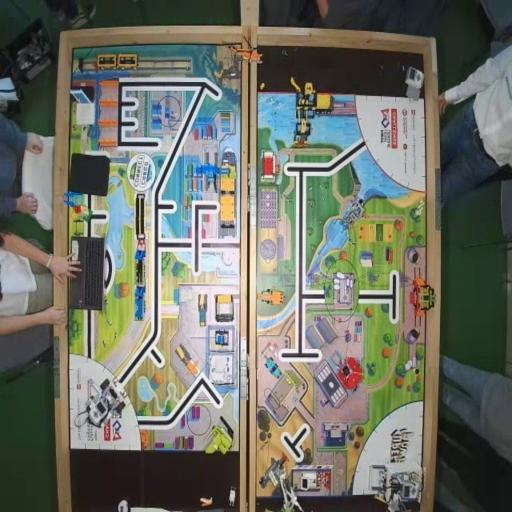lego_robot: (368, 464, 426, 512), (82, 377, 127, 431)
